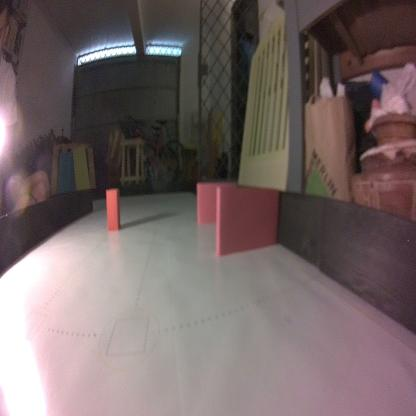magenta: (214, 184, 284, 261), (194, 178, 244, 224)
red: (104, 185, 120, 231)
